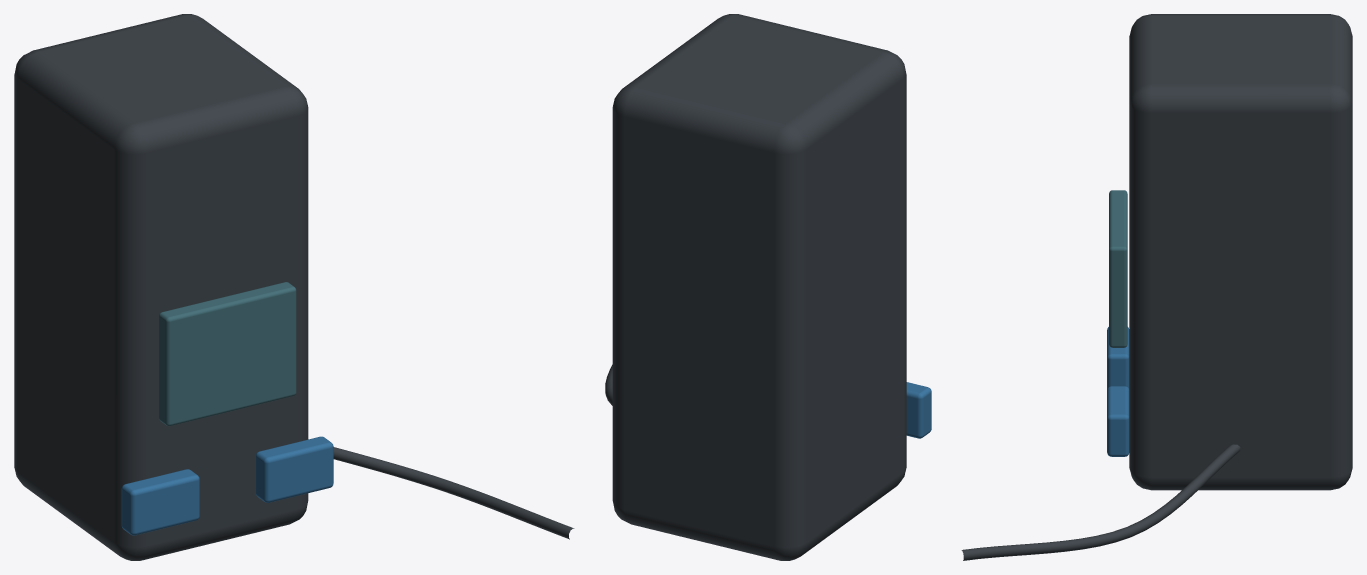
File: fencing-club-and-tournament-piste-electrical-test-mete-1e9f529e__31242.glb
3 views of the same model, side by side, from view 1: azimuth 30°, elevation 25°; view 2: azimuth 150°, elevation 25°; view 3: azimuth 270°, elevation 25° (orthographic). The views are drawn at different scales.
Visible parts, largest first — view 1: electrical-test-meter; view 2: electrical-test-meter; view 3: electrical-test-meter.
Boxes of the visible parts, left/top/right/bottom form: electrical-test-meter: left=14, top=14, right=574, bottom=560; electrical-test-meter: left=605, top=14, right=931, bottom=560; electrical-test-meter: left=961, top=14, right=1352, bottom=560.
Size of the model in its own units: 0.2112 by 0.24 by 0.2109.
